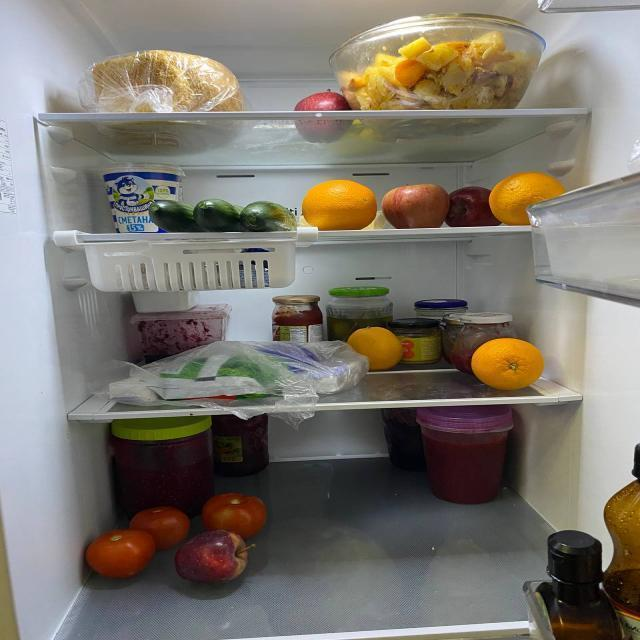apple: (172, 534, 259, 583), (382, 184, 454, 221), (436, 184, 496, 223), (288, 92, 348, 114)
cucumber: (188, 198, 245, 233), (240, 202, 299, 233), (149, 197, 196, 229)
orange: (466, 339, 542, 390), (294, 184, 382, 226), (480, 170, 556, 217), (345, 323, 400, 366)
tomato: (86, 527, 150, 572), (202, 496, 270, 534), (125, 502, 191, 540)
